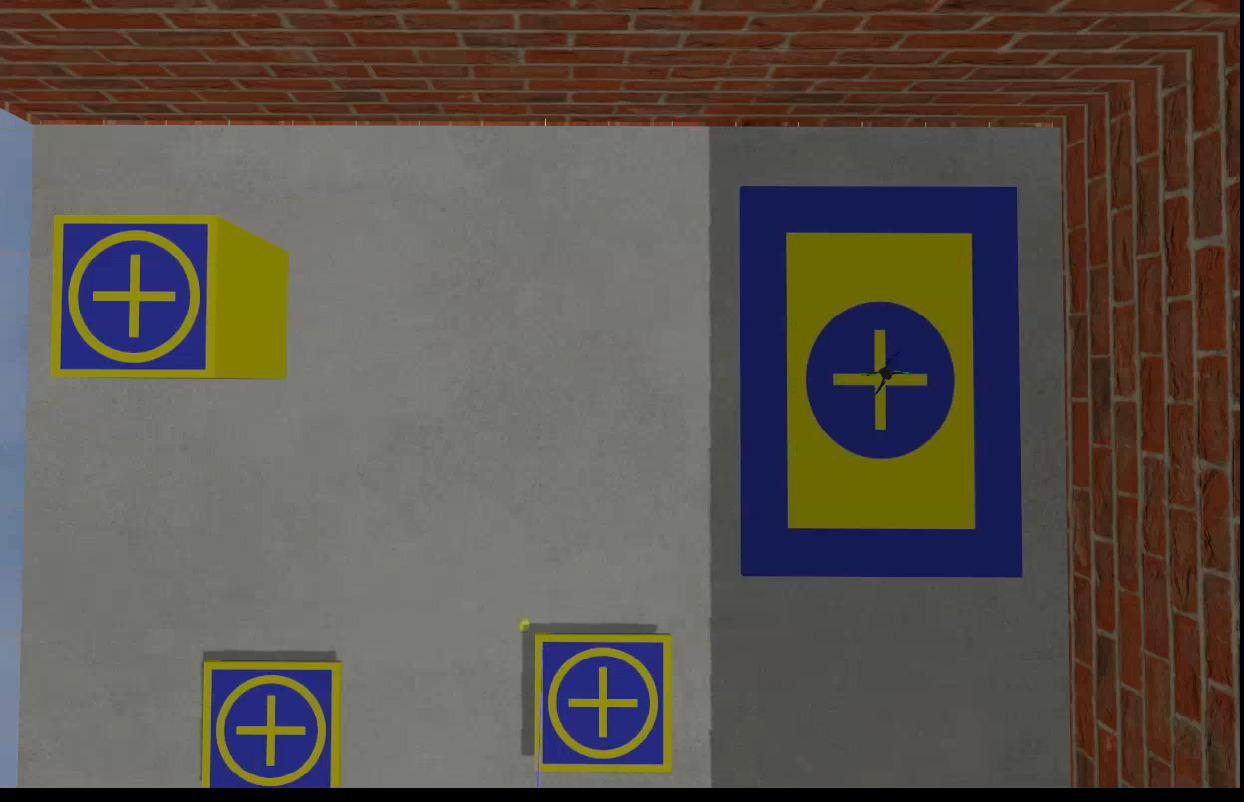large_base: (740, 183, 1028, 579)
small_base: (52, 213, 220, 381), (531, 632, 677, 771), (203, 659, 343, 791)
